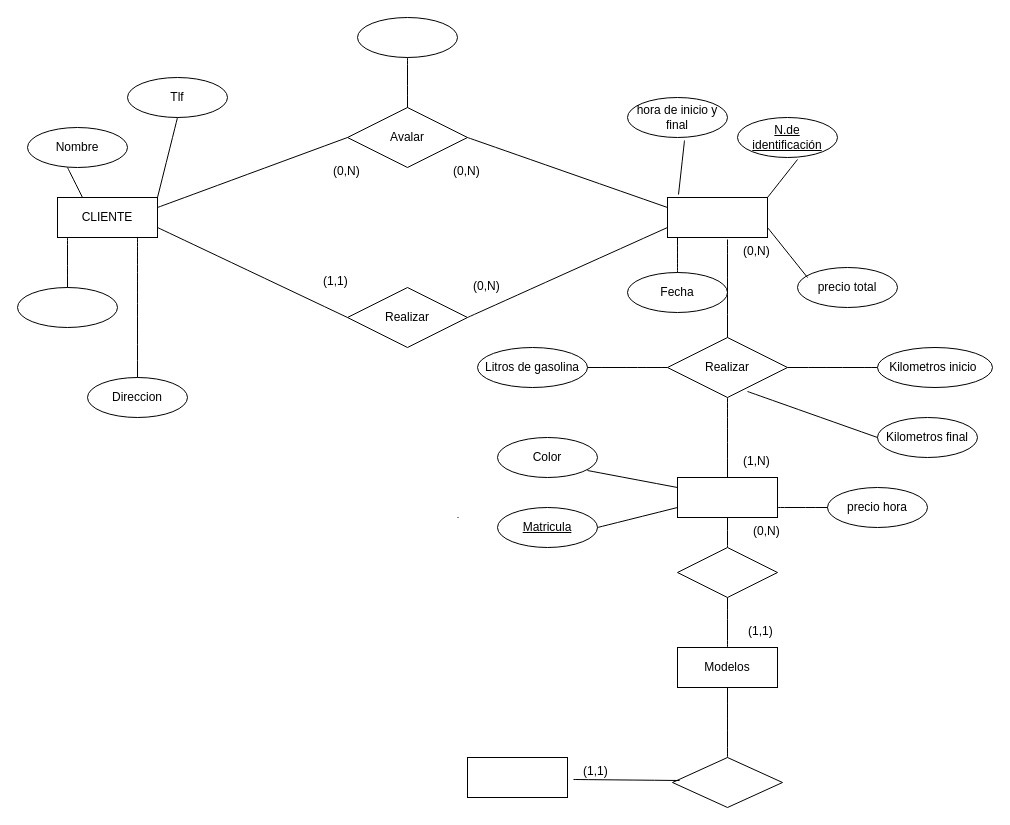
The diagram is 1010 pixels wide and 825 high, and some of its shapes have lost their labels. The shapes that lost their labels are listed below. From the top down, each one's centre as x and y in pixels, then its label:
(407,37): Porcentaje
(717,217): RESERVA
(67,307): DNI
(727,497): COCHES
(727,572): Tener
(517,777): Marca
(727,782): Pertenecer
